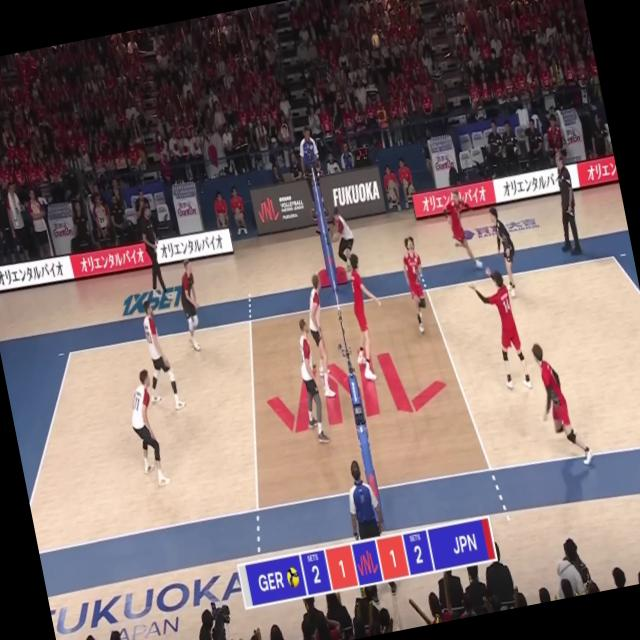referee: (340, 456, 402, 606)
team_one: (134, 296, 189, 415), (288, 316, 336, 448), (123, 368, 174, 489), (299, 274, 343, 401), (172, 258, 210, 354), (324, 208, 360, 274)
team_two: (529, 337, 595, 472), (466, 262, 532, 394), (337, 248, 397, 384), (396, 232, 438, 334), (439, 185, 485, 274), (485, 205, 524, 301)
